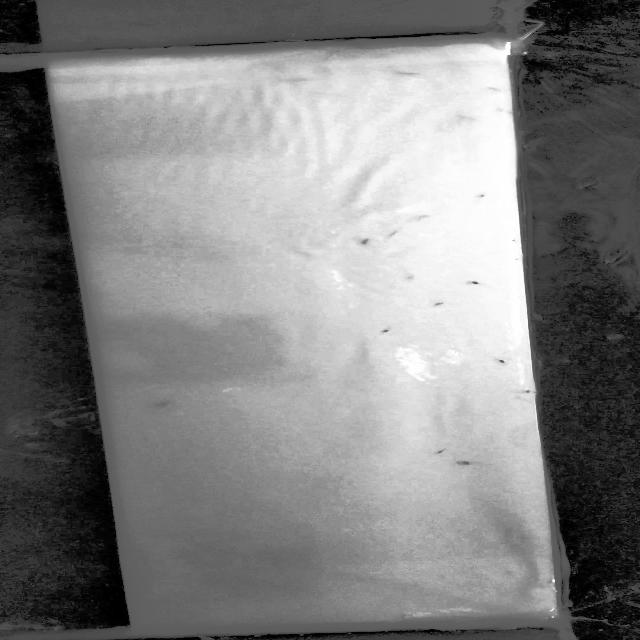shrimp: (483, 82, 513, 97), (393, 67, 429, 79), (458, 273, 492, 285), (424, 443, 456, 455), (506, 382, 533, 396), (396, 267, 418, 283), (409, 212, 446, 221), (383, 230, 411, 241), (358, 238, 380, 251), (495, 355, 517, 368), (473, 186, 492, 201), (381, 323, 404, 335), (427, 299, 452, 308), (452, 458, 477, 467), (494, 108, 515, 116)
